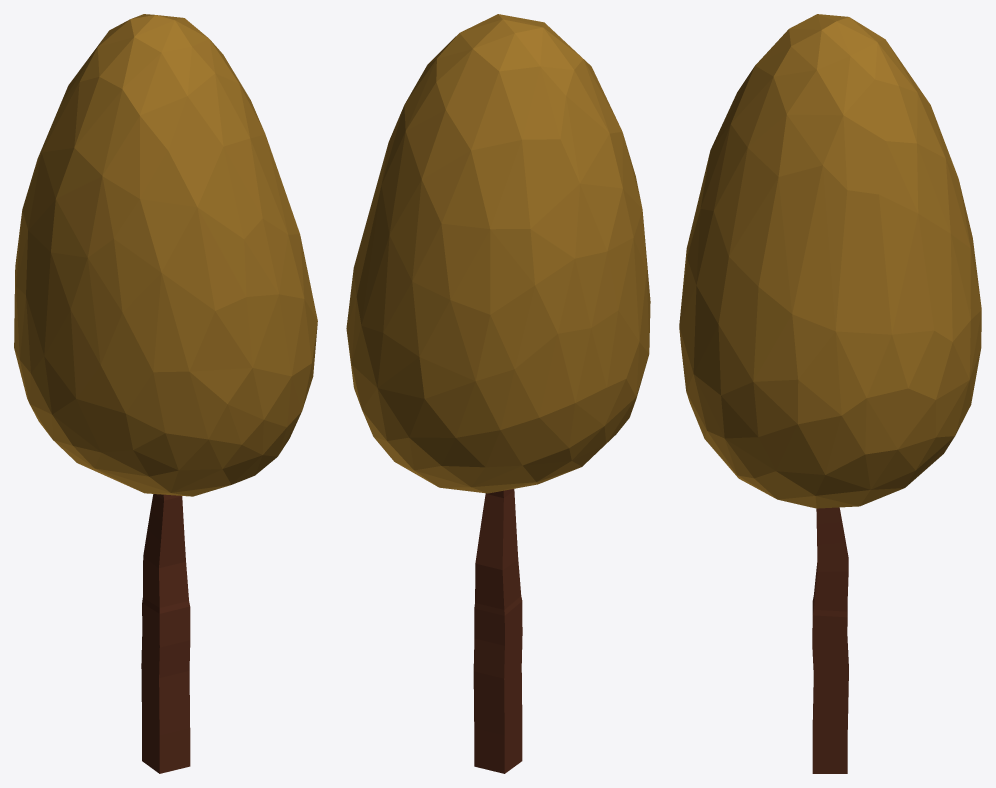
File: BlobTreeYellow.fbx
3 views of the same model, side by side, from view 1: azimuth 30°, elevation 25°; view 2: azimuth 150°, elevation 25°; view 3: azimuth 270°, elevation 25° (orthographic).
Parts seen in each view (by area): view 1: Plane; view 2: Plane; view 3: Plane.
Part boxes in pixels (x1,y1,x2,y2): Plane: [14, 14, 317, 773]; Plane: [346, 14, 650, 773]; Plane: [679, 14, 981, 773].
Size of the model in its own units: 336 by 915 by 338.
